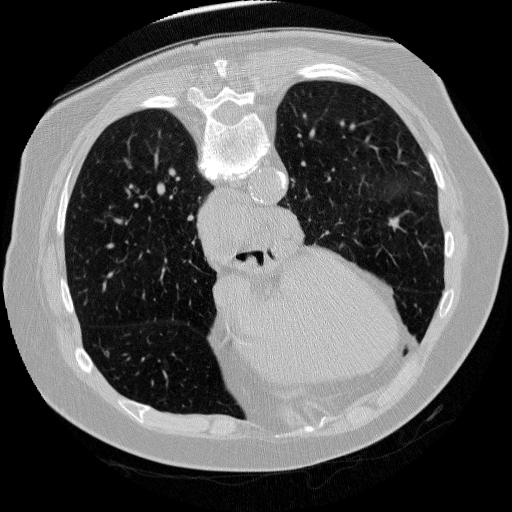nodule: (383, 214, 403, 234)
